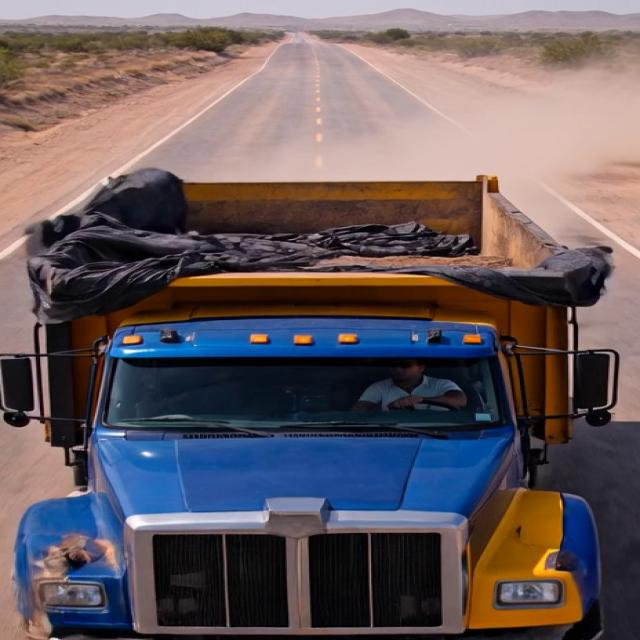trailer: (0, 169, 617, 308)
truck: (0, 128, 633, 630)
